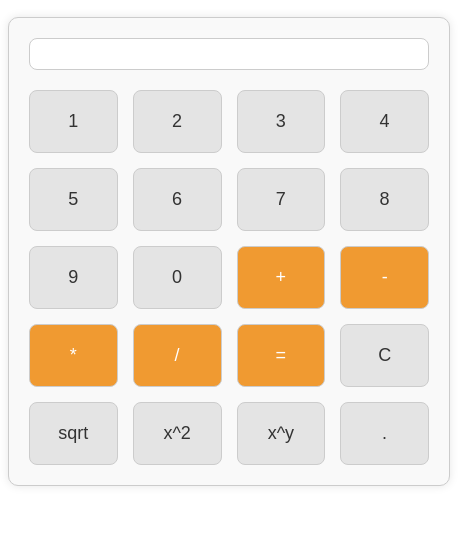
Calculator component › handles subtraction correctly
Click the button "5" at (73, 200), box [29,168,118,231]
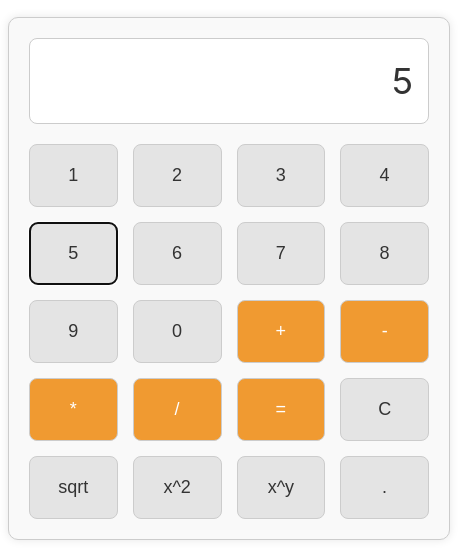
Click the button "-" at (385, 332), box [340,300,429,363]
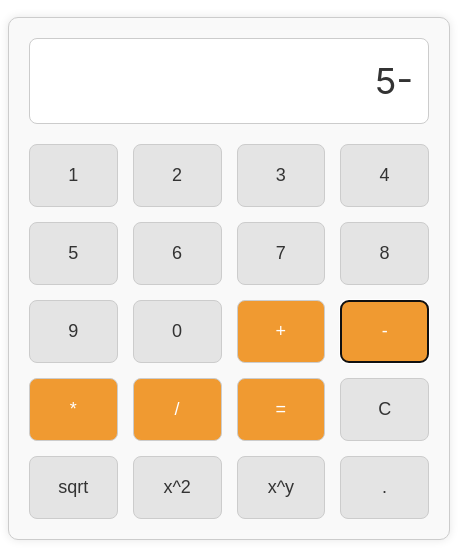
Click the button "2" at (177, 176), box [133,144,222,207]
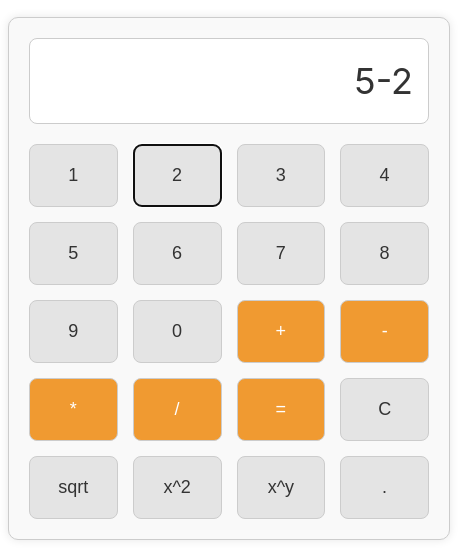
Click the button "=" at (281, 410), box [236,378,325,441]
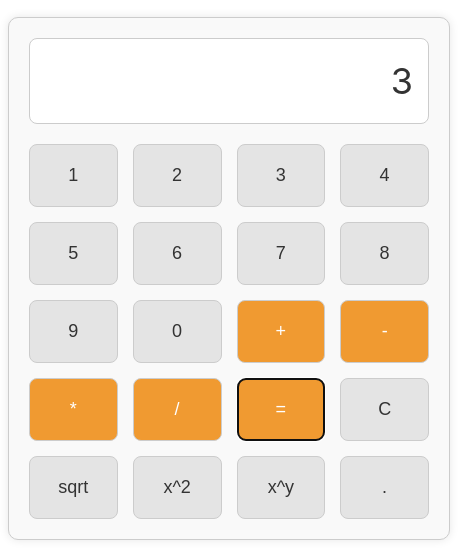
Expected: the text "3" is shown, [29,38,429,124]
